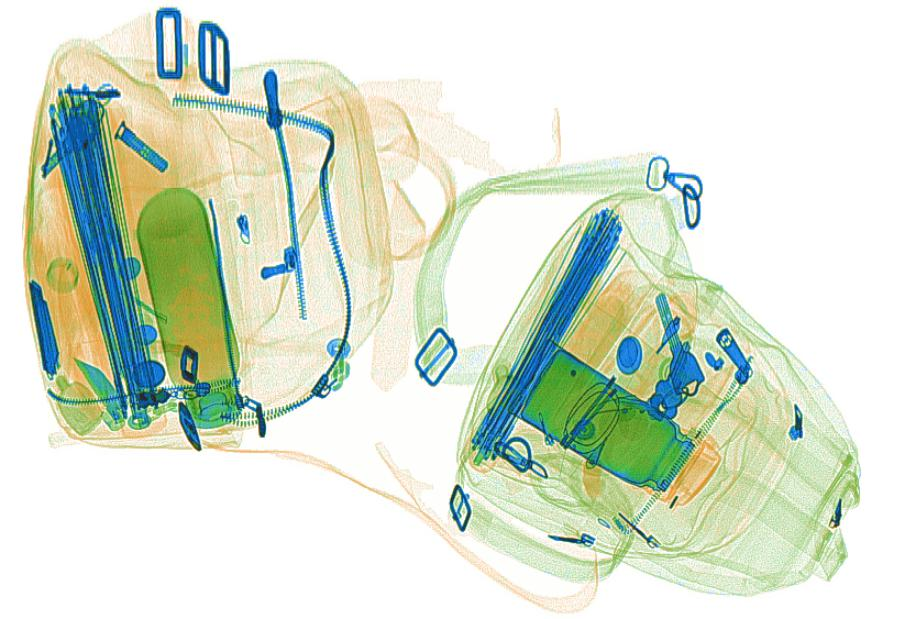knife: (69, 342, 129, 432), (27, 279, 62, 382)
